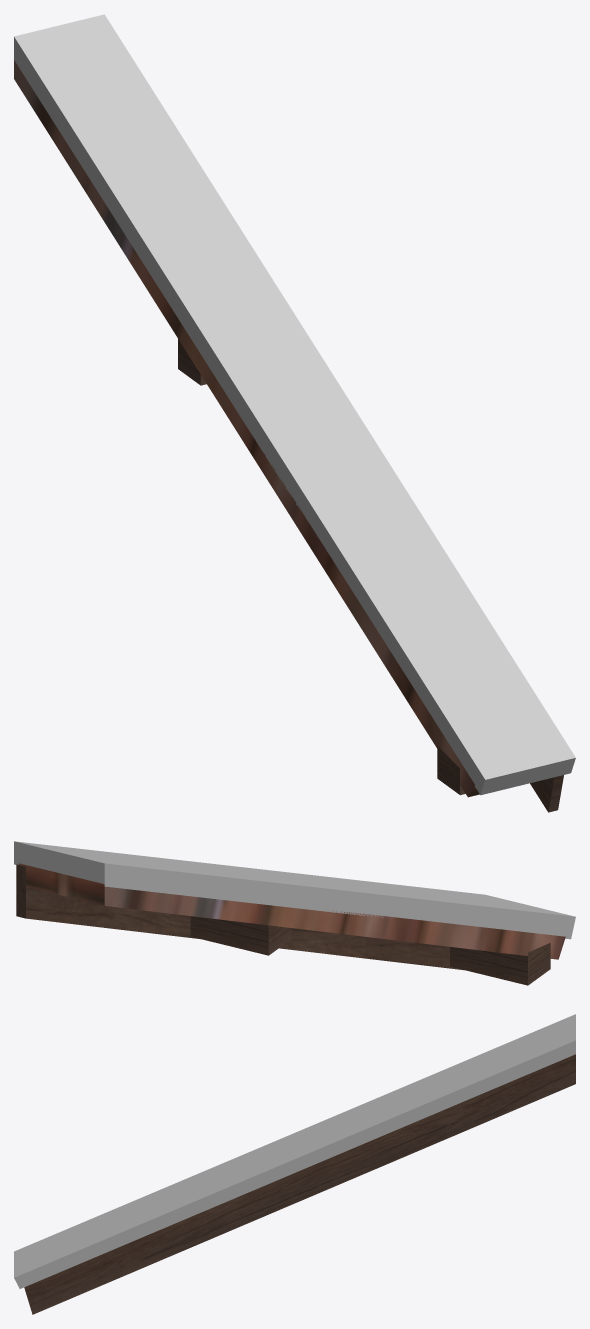
Rendered from kawara__x2t_a1end_l.fbx.
The picture shows the model from 3 angles, top to bottom: view 1: azimuth 30°, elevation 25°; view 2: azimuth 150°, elevation 25°; view 3: azimuth 270°, elevation 25°; orthographic projection. The views are drawn at different scales.
Visible parts, largest first — view 1: kawara__x2t_a1end_l; view 2: kawara__x2t_a1end_l; view 3: kawara__x2t_a1end_l.
Part boxes in pixels (<box>): kawara__x2t_a1end_l: <box>14,14,575,812</box>; kawara__x2t_a1end_l: <box>14,841,575,985</box>; kawara__x2t_a1end_l: <box>14,1014,575,1314</box>.
Bounding box in the file's own units: 30 × 146 × 270.
